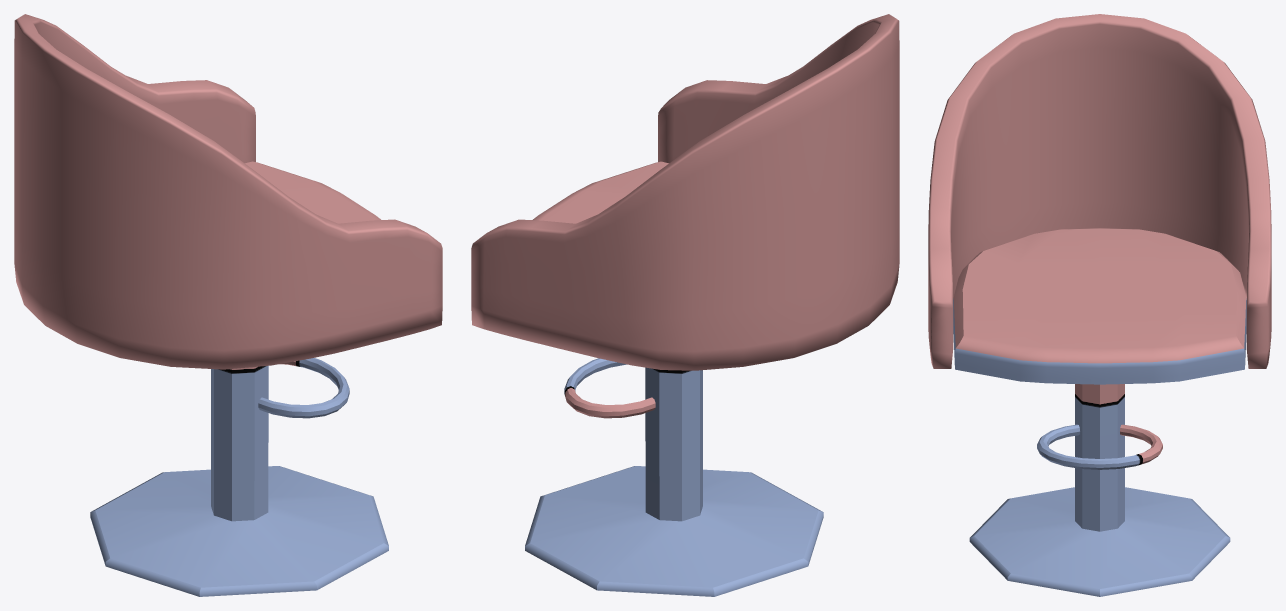
Rendered from PokerChair.fbx.
3 views of the same model, side by side, from view 1: azimuth 30°, elevation 25°; view 2: azimuth 150°, elevation 25°; view 3: azimuth 270°, elevation 25° (orthographic). The views are drawn at different scales.
Visible parts, largest first — view 1: PokerChair_Chair; view 2: PokerChair_Chair; view 3: PokerChair_Chair.
Part boxes in pixels (x1,y1,x2,y2): PokerChair_Chair: (14,14,442,596); PokerChair_Chair: (471,14,899,596); PokerChair_Chair: (928,14,1271,596).
Size of the model in its own units: 68.24 by 103 by 71.28.
1 material, 1 textured.
